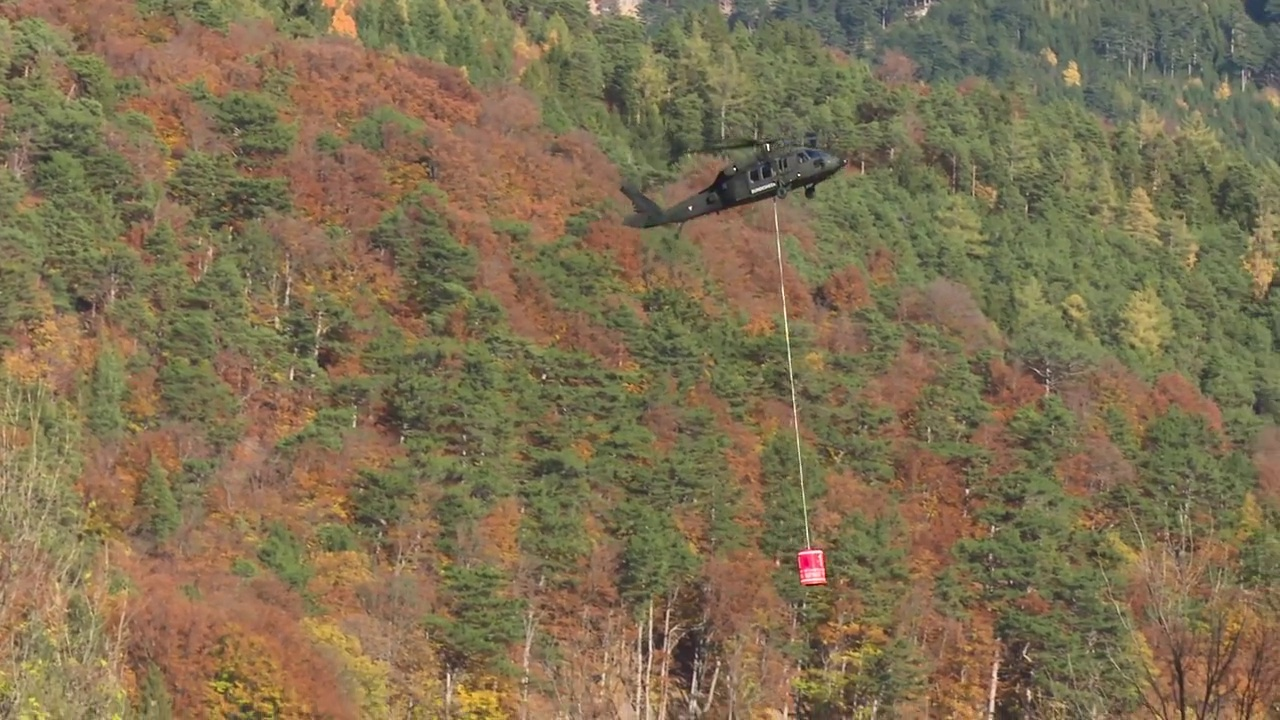heli: (620, 136, 850, 230)
